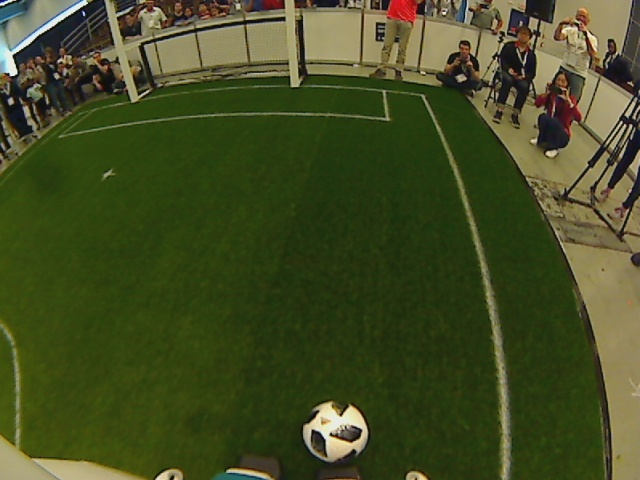ball: (298, 398, 371, 464)
